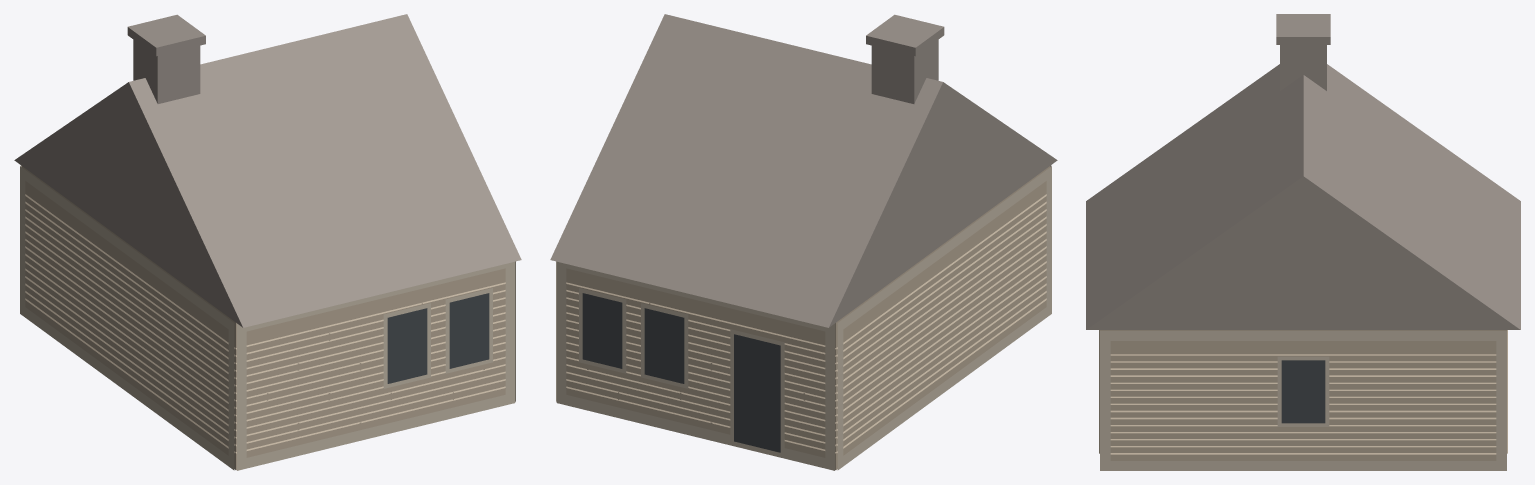
File: inf_brickmaker_dwelling_north__inferred_1835.glb
The picture shows the model from 3 angles, left to right: view 1: azimuth 30°, elevation 25°; view 2: azimuth 150°, elevation 25°; view 3: azimuth 270°, elevation 25°; orthographic projection. The views are drawn at different scales.
Visible parts, largest first — view 1: inf_brickmaker_dwelling_north__inferred_1835; view 2: inf_brickmaker_dwelling_north__inferred_1835; view 3: inf_brickmaker_dwelling_north__inferred_1835.
Part boxes in pixels (x1=…): inf_brickmaker_dwelling_north__inferred_1835: x1=14, y1=14, x2=521, y2=470; inf_brickmaker_dwelling_north__inferred_1835: x1=550, y1=14, x2=1057, y2=470; inf_brickmaker_dwelling_north__inferred_1835: x1=1086, y1=14, x2=1520, y2=470.
Bounding box in the file's own units: 5.57 × 6.61 × 7.82.
